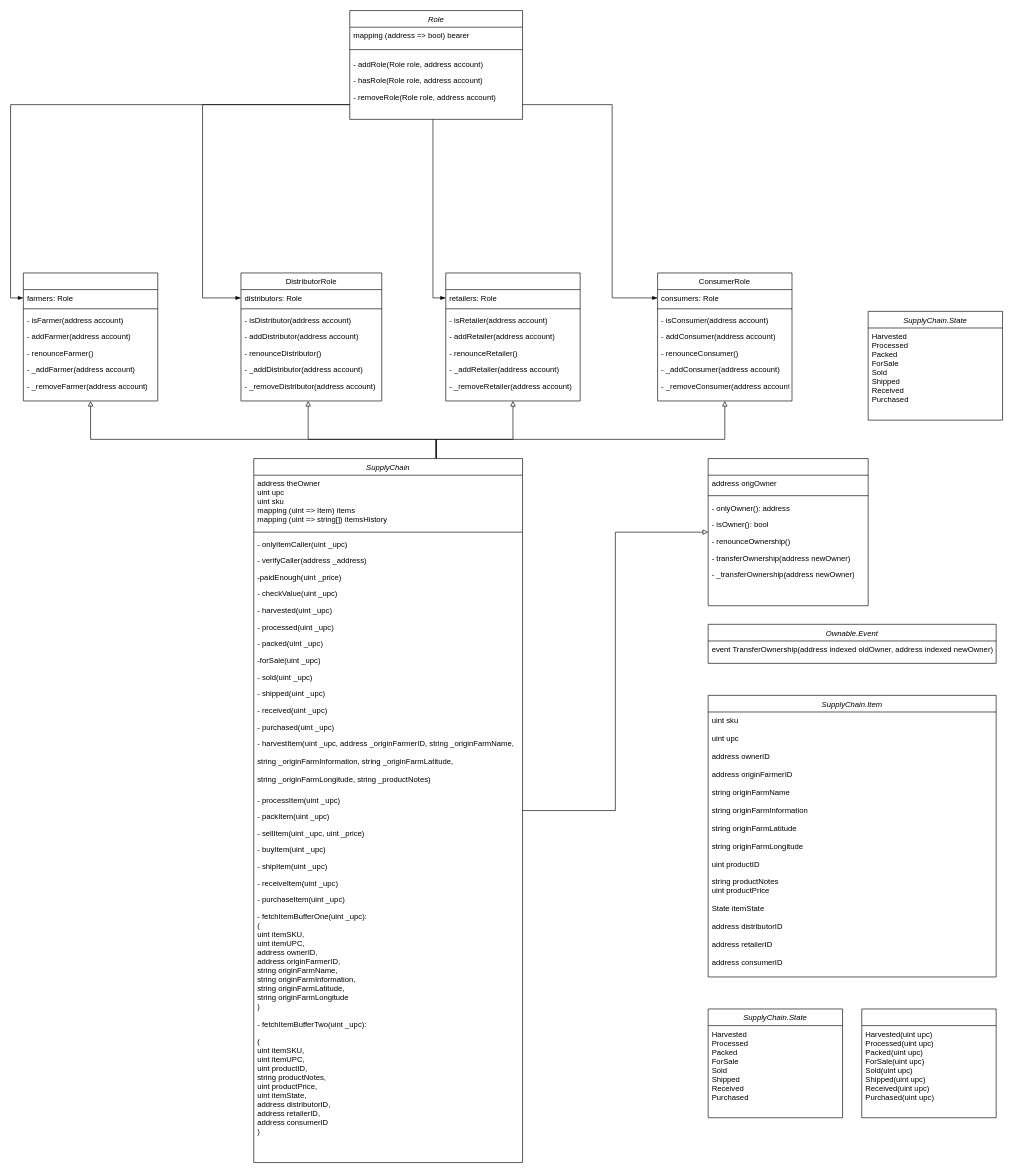
Some shapes in this 1013 by 1173 pixel diagram are drawn without their labels. The shapes that lost their labels are listed below. From the top down, each one's box as (x1, y1, x2, y2) in pixels, then its label:
(23, 272, 158, 401): FarmerRole
(445, 272, 580, 401): RetailerRole
(708, 458, 868, 606): Ownable
(861, 1008, 996, 1118): SupplyChain.Event
